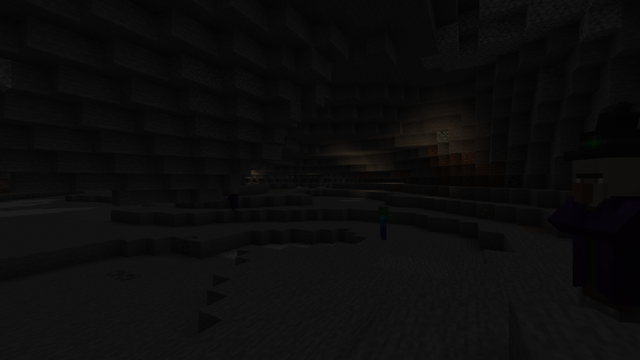sorcieres: (568, 150, 638, 323), (228, 193, 238, 210)
zombies: (376, 206, 388, 240)
